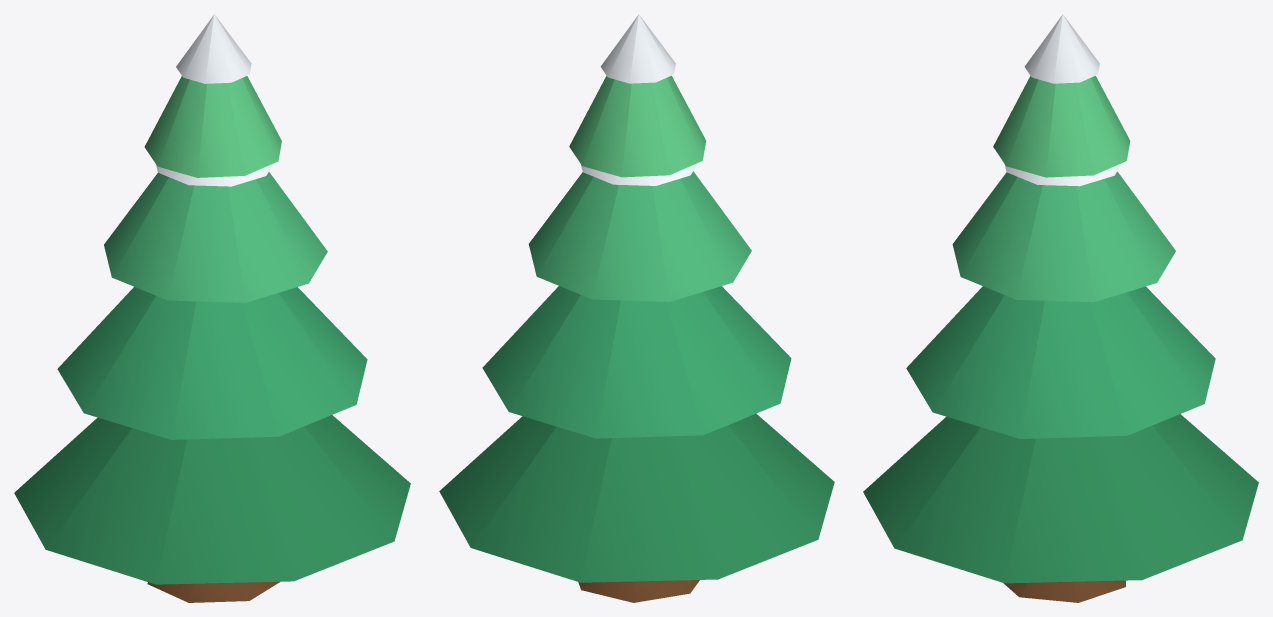
Rendered from treePine.glb.
3 views of the same model, side by side, from view 1: azimuth 30°, elevation 25°; view 2: azimuth 150°, elevation 25°; view 3: azimuth 270°, elevation 25° (orthographic).
Size of the model in its own units: 2.25 by 3.53 by 2.26.
